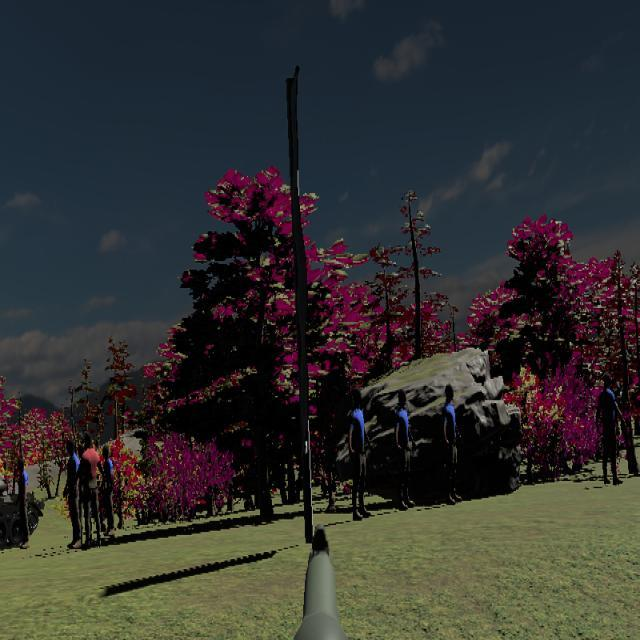Human: (74, 432, 105, 547), (349, 388, 371, 521), (395, 392, 415, 509), (442, 385, 461, 503)
Tank: (0, 469, 29, 550)
